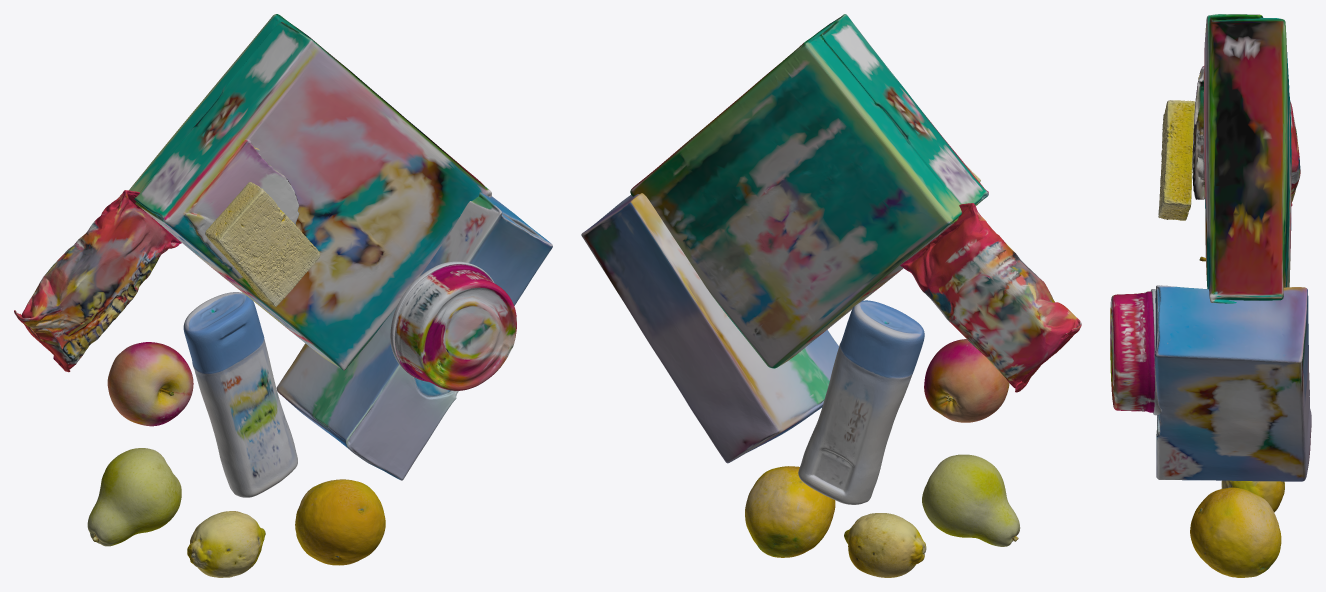
The model's file is simfoundry_output.glb.
3 views of the same model, side by side, from view 1: azimuth 30°, elevation 25°; view 2: azimuth 150°, elevation 25°; view 3: azimuth 270°, elevation 25° (orthographic).
Bounding box in the file's own units: 0.4092 × 0.4399 × 0.1493.
